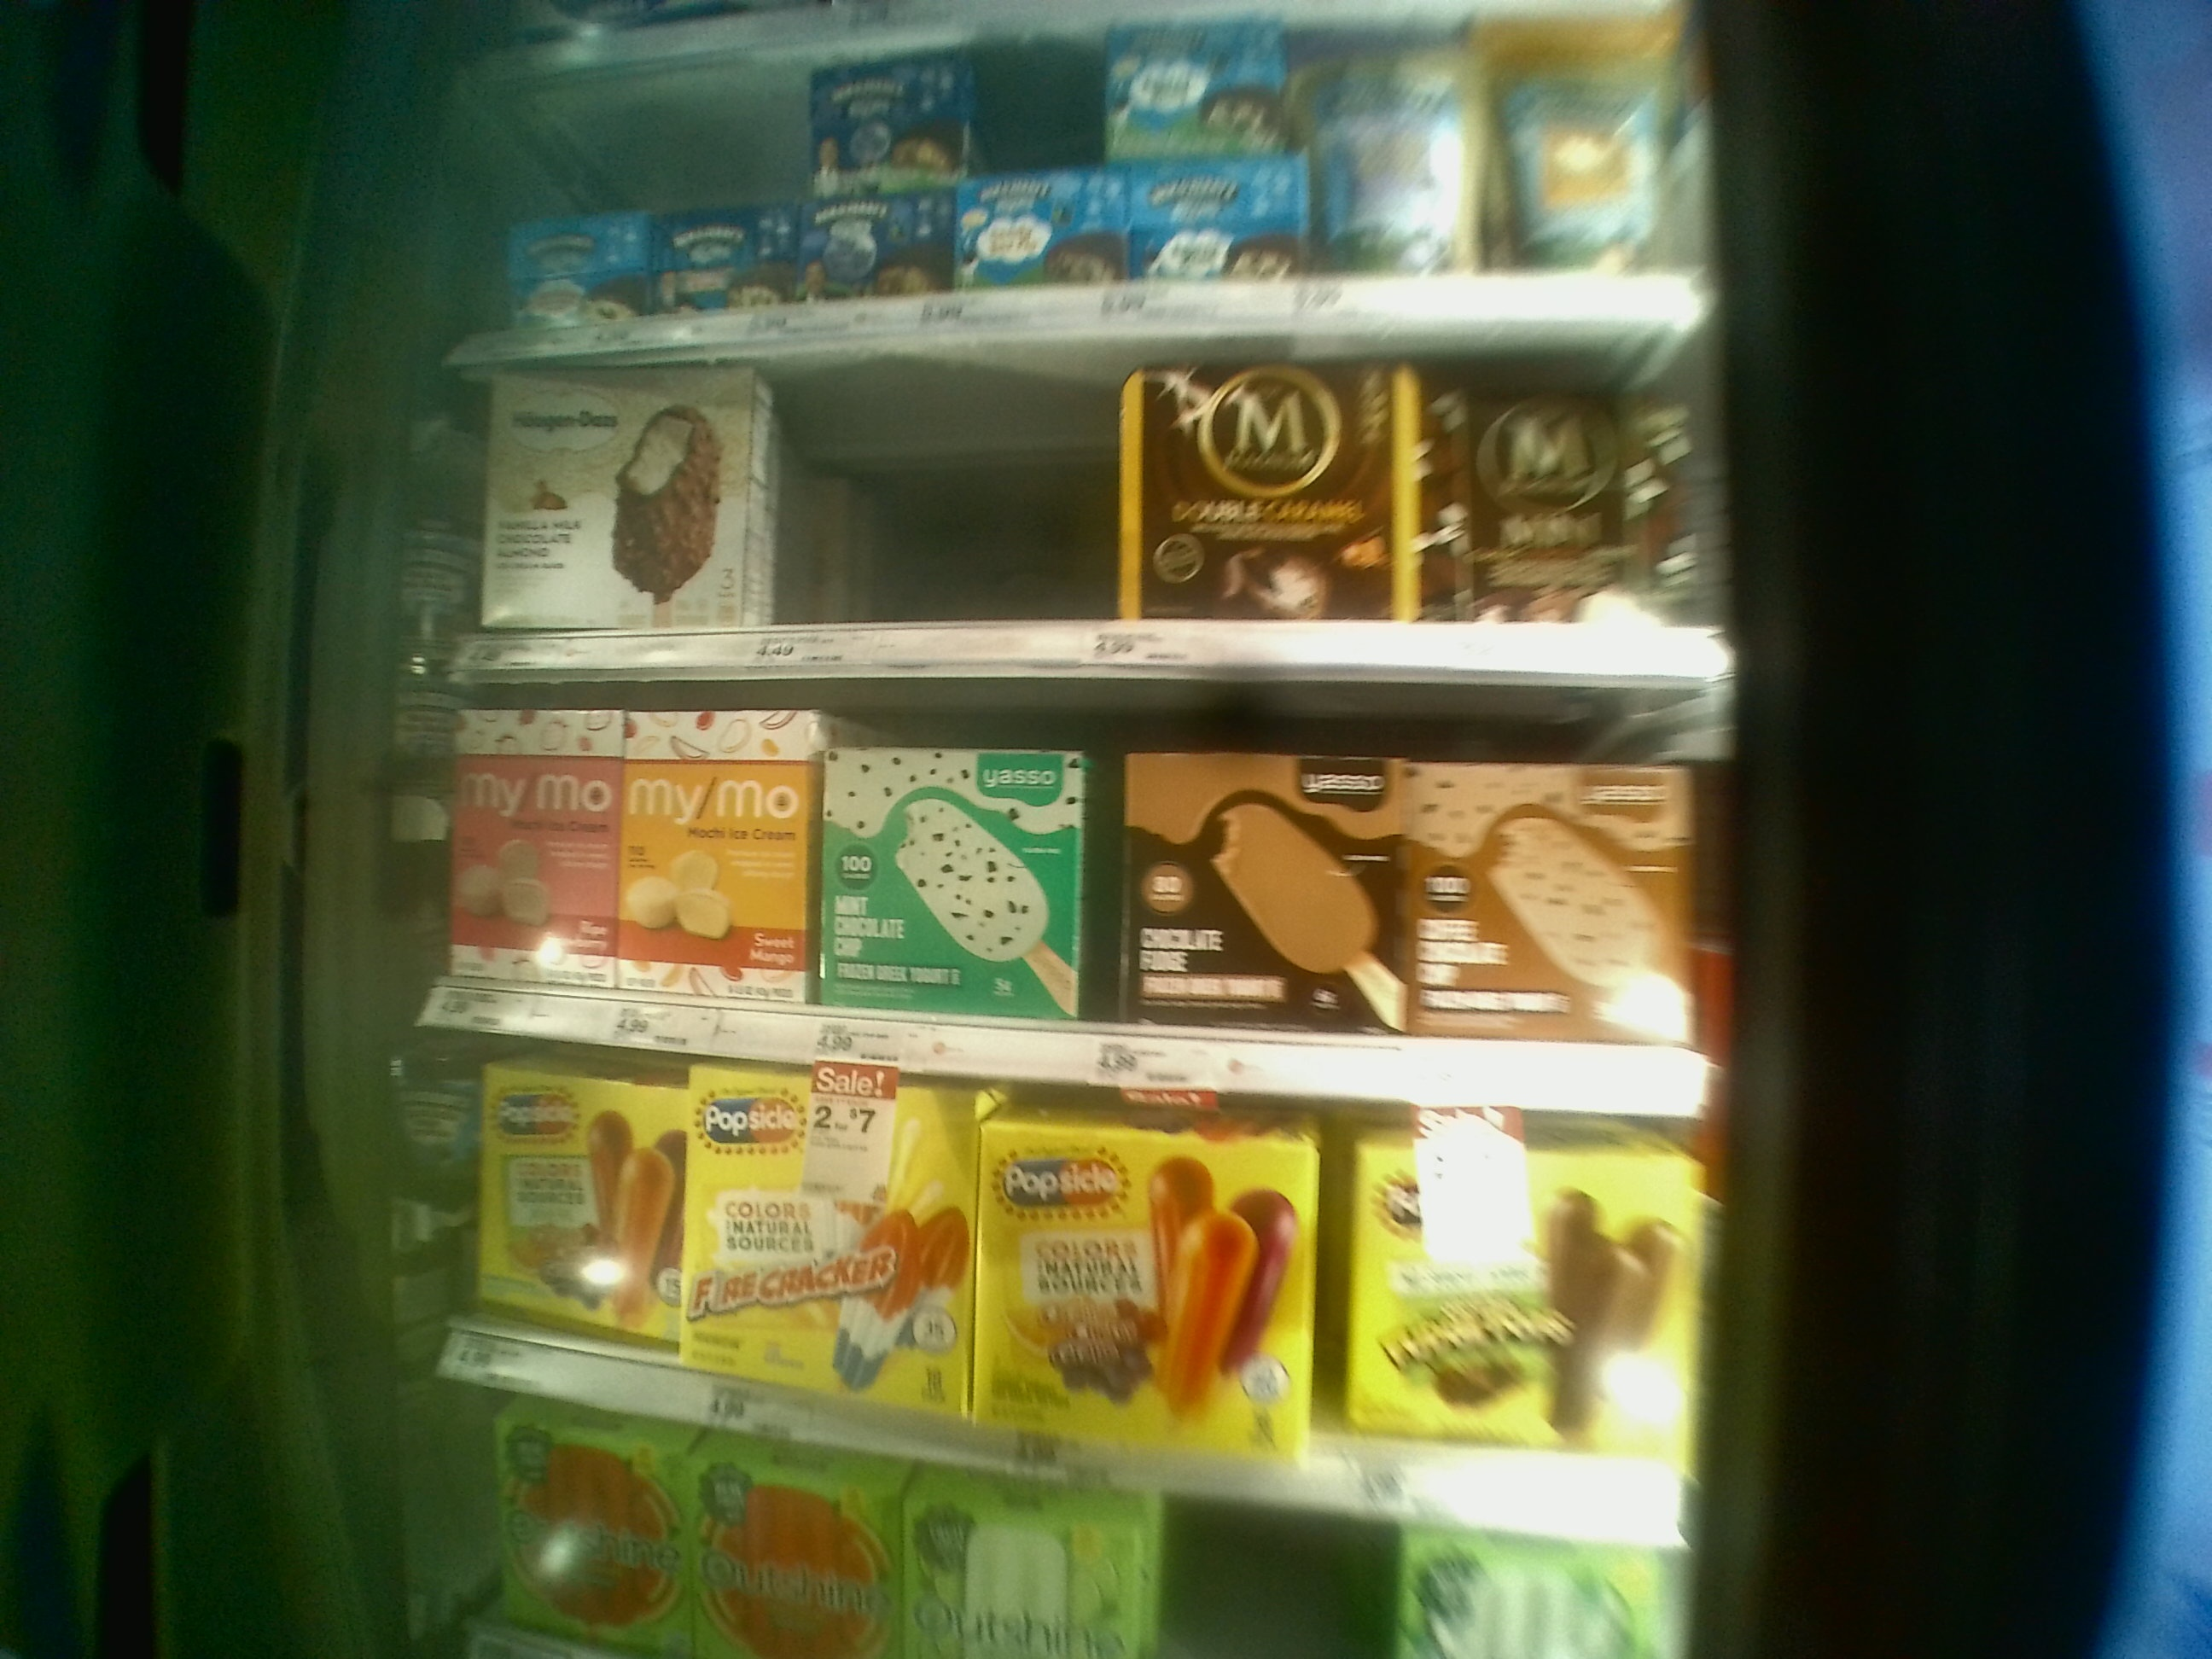ice-cream-shelf: (467, 335, 1731, 676)
